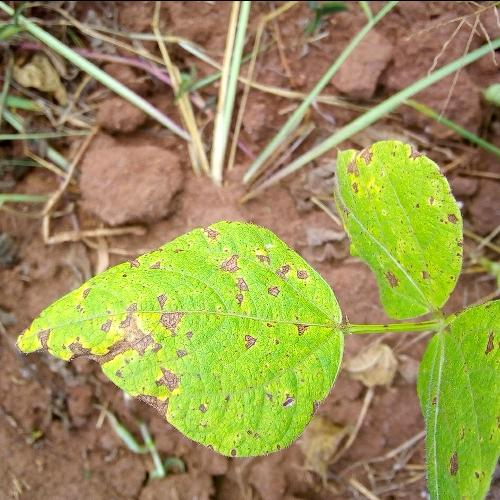mozaik: (88, 226, 226, 422), (345, 110, 440, 280), (223, 236, 312, 393), (432, 297, 500, 490)
